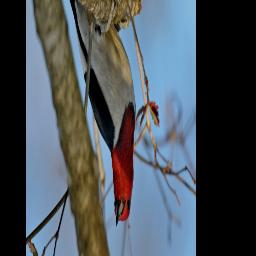Woodpecker: (62, 0, 139, 241)
